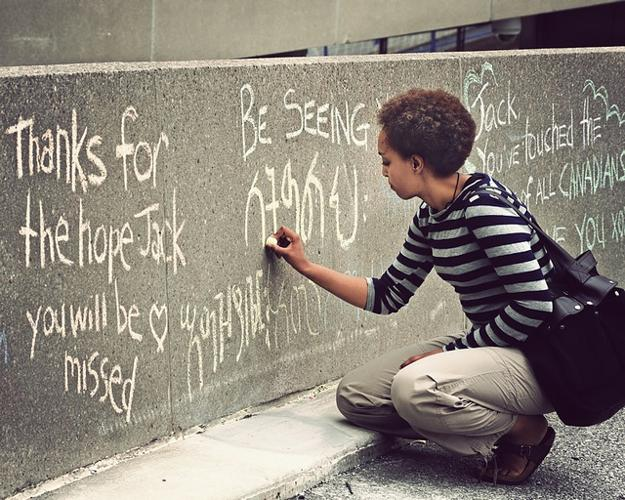person: (273, 89, 560, 488)
